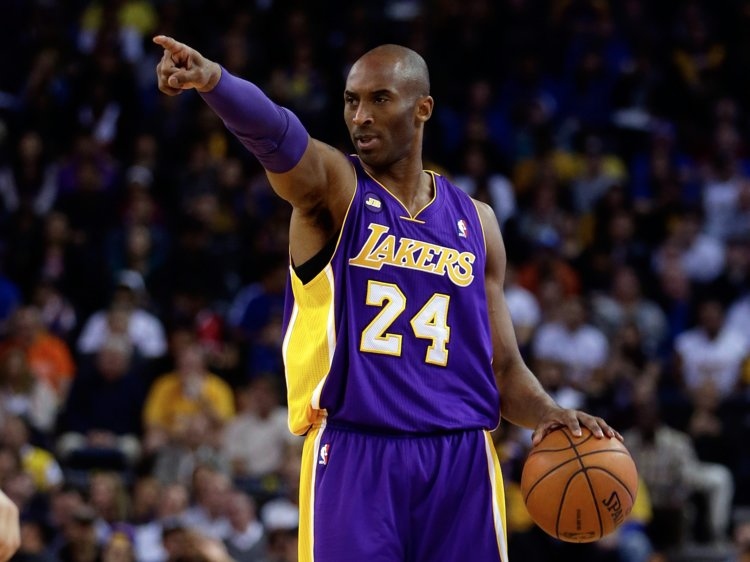Basketball: (518, 427, 642, 543)
